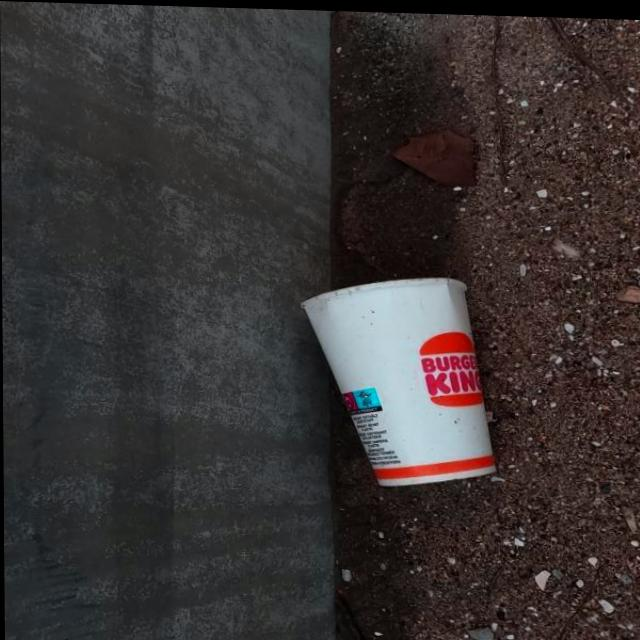Cup: (295, 267, 501, 488)
